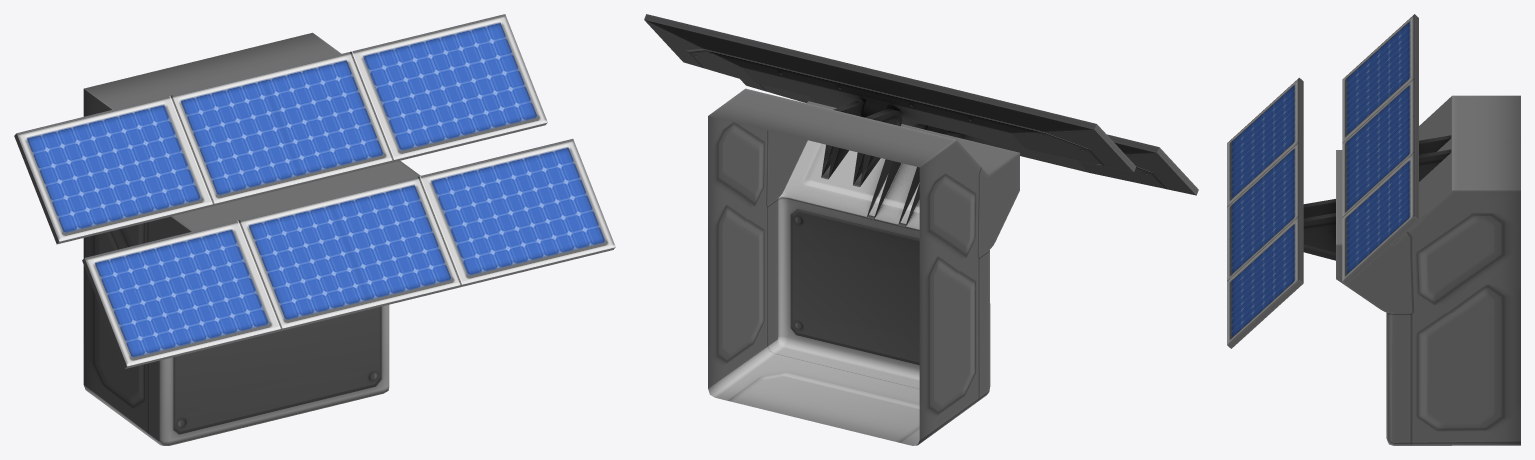
Rendered from solar_array.obj.
3 renders of one model, left to right at view 1: azimuth 30°, elevation 25°; view 2: azimuth 150°, elevation 25°; view 3: azimuth 270°, elevation 25°, orthographic. The views are drawn at different scales.
Visible parts, largest first — view 1: solar_array; view 2: solar_array; view 3: solar_array.
Boxes of the visible parts, x1,y1,x2,y2 form: solar_array: [14, 14, 615, 445]; solar_array: [644, 14, 1198, 445]; solar_array: [1227, 14, 1520, 445].
Size of the model in its own units: 126 by 82.84 by 77.27.
